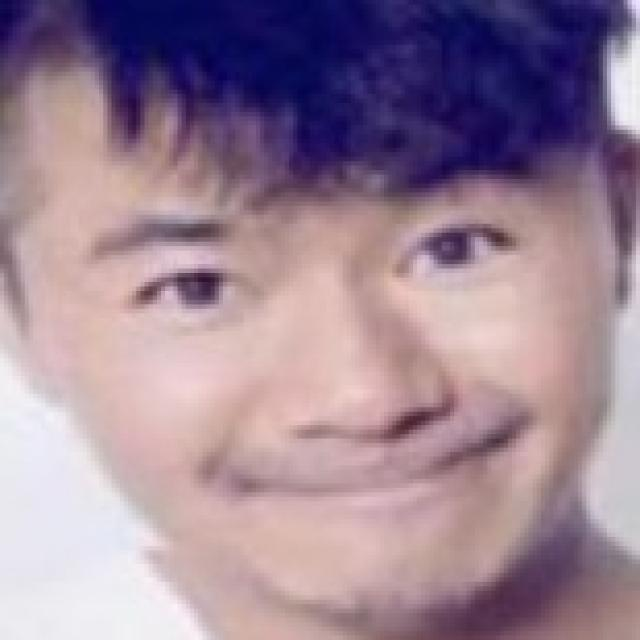no_mask: (20, 58, 615, 621)
